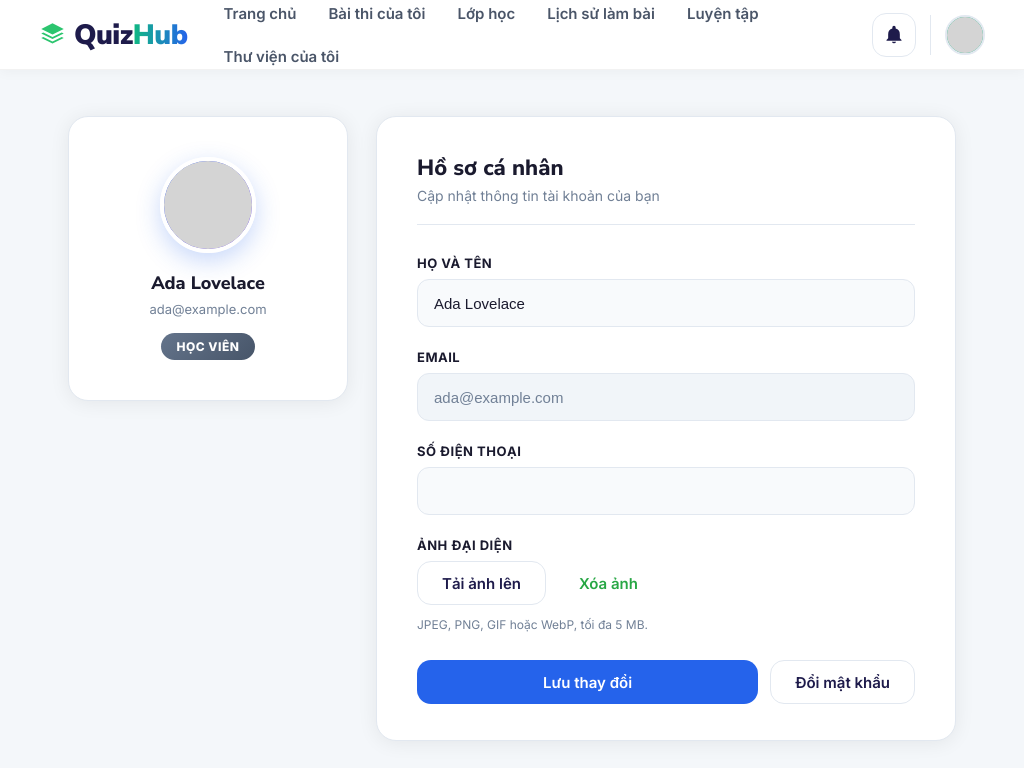
Test: ProfilePage › puts a wrong-current-password error (code 1011) on the current-password field
Click the button "Đổi mật khẩu".
click(843, 682)  # box [770, 660, 915, 704]
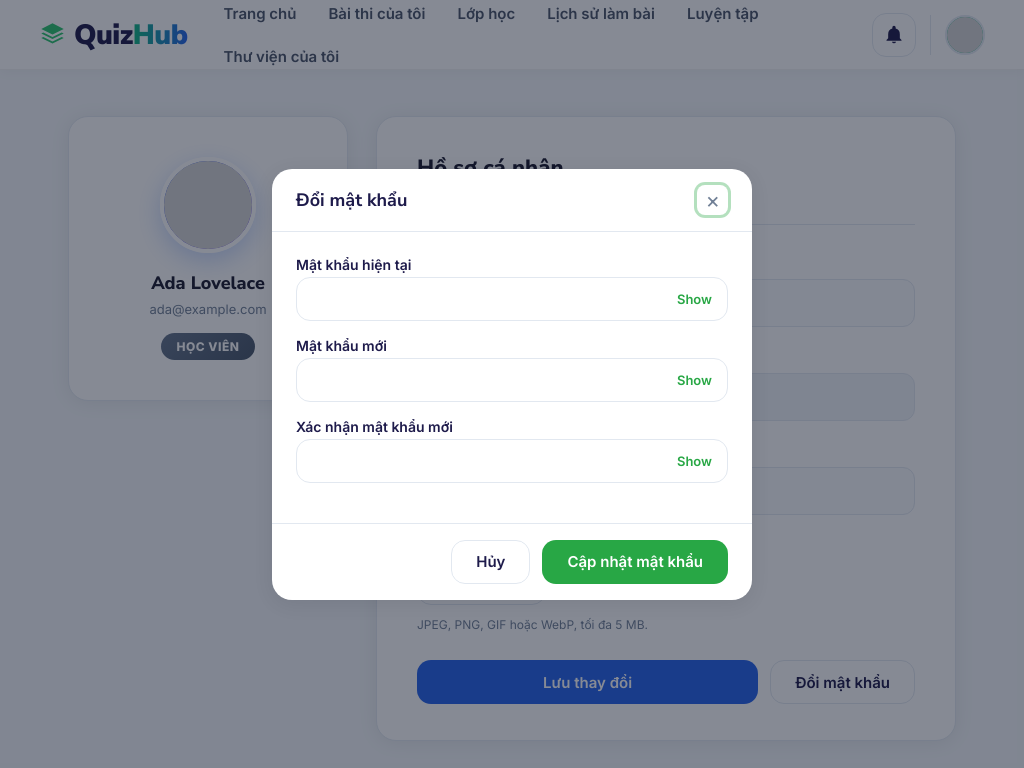
Type "wrong-old" into the password field labelled "Mật khẩu hiện tại".
click(512, 298); type("wrong-old")  # box [296, 276, 728, 320]
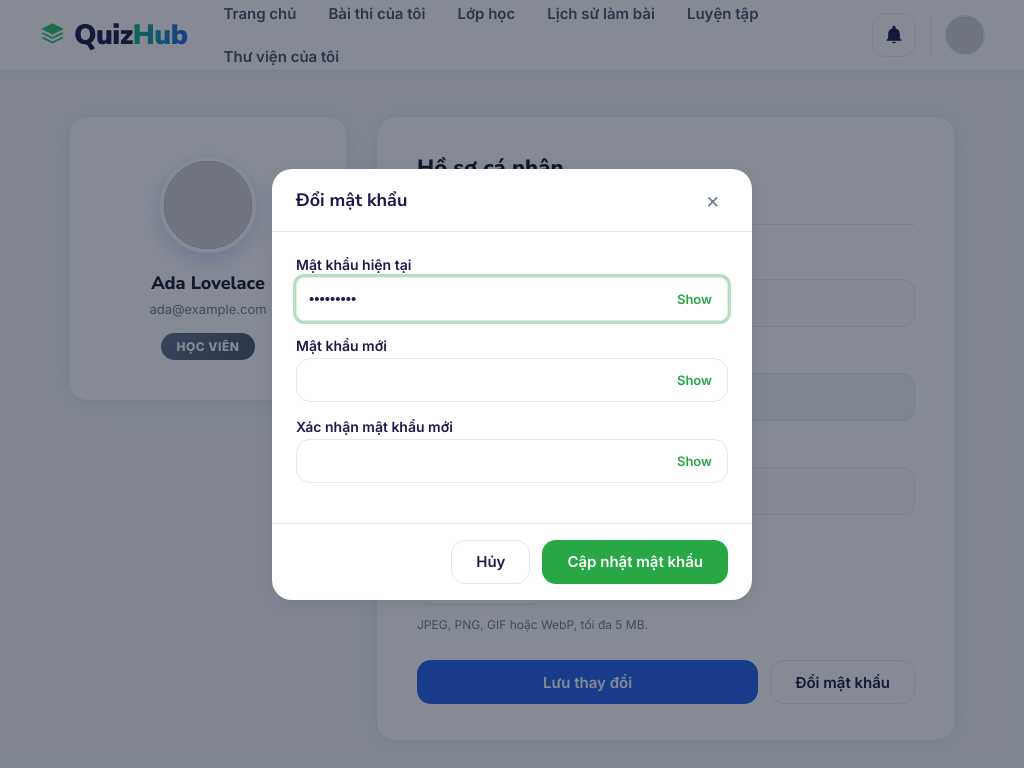
Type "new-secret" into the password field labelled "Mật khẩu mới".
click(512, 380); type("new-secret")  # box [296, 358, 728, 402]
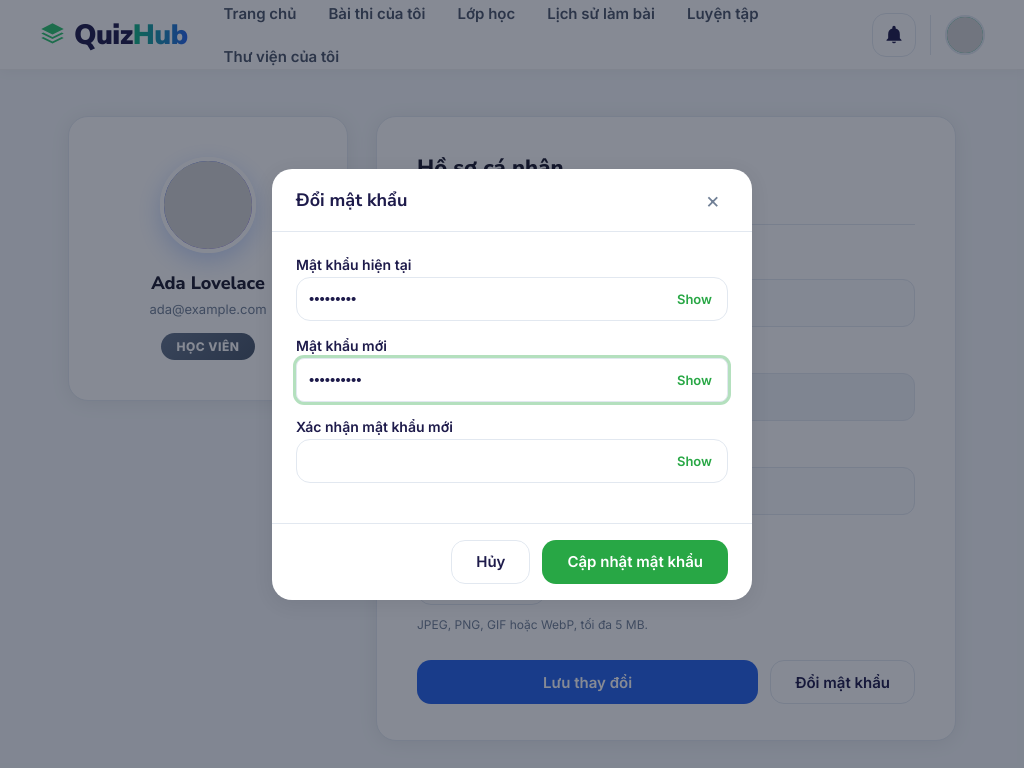
Type "new-secret" into the password field labelled "Xác nhận mật khẩu mới".
click(512, 460); type("new-secret")  # box [296, 438, 728, 482]
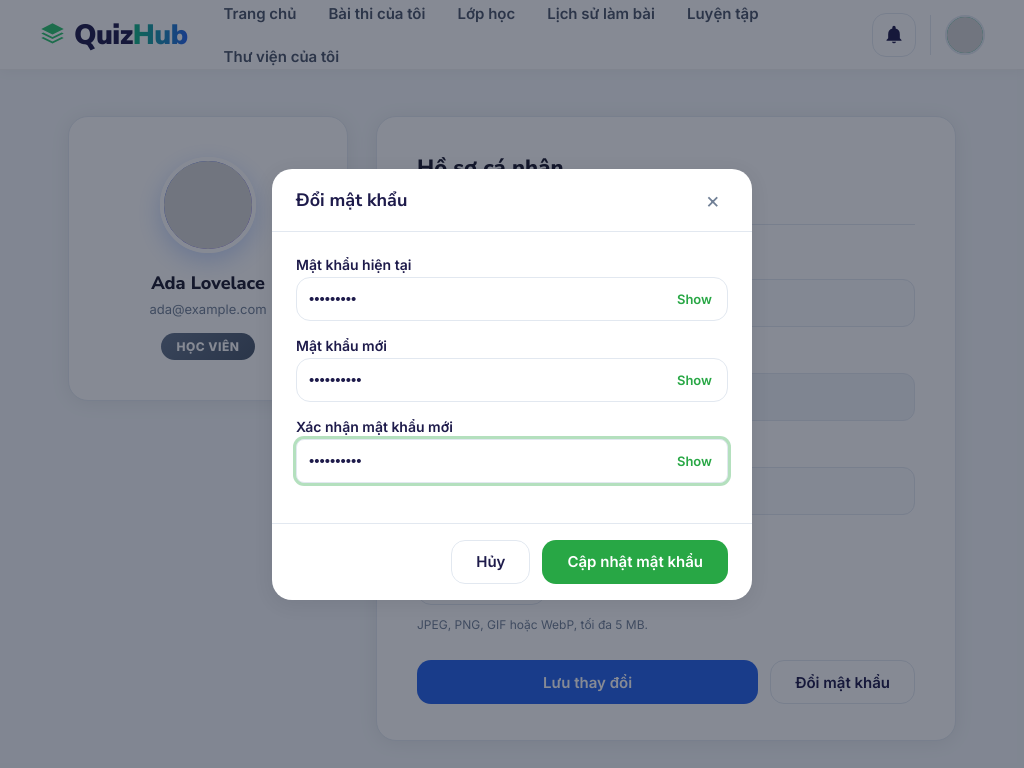
Click the button "Cập nhật mật khẩu".
click(635, 562)  # box [542, 540, 728, 584]
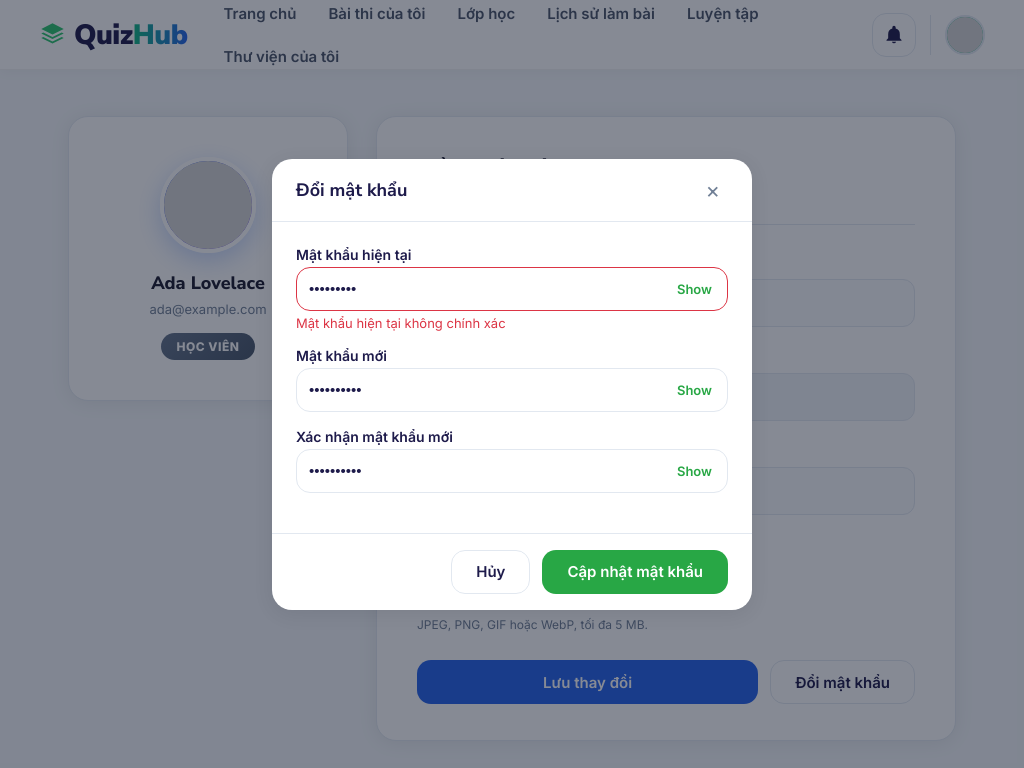
Now the dialog is shown, box [272, 158, 752, 610]
Now the text "Mật khẩu hiện tại không chính xác" is shown, box [296, 314, 506, 330]
